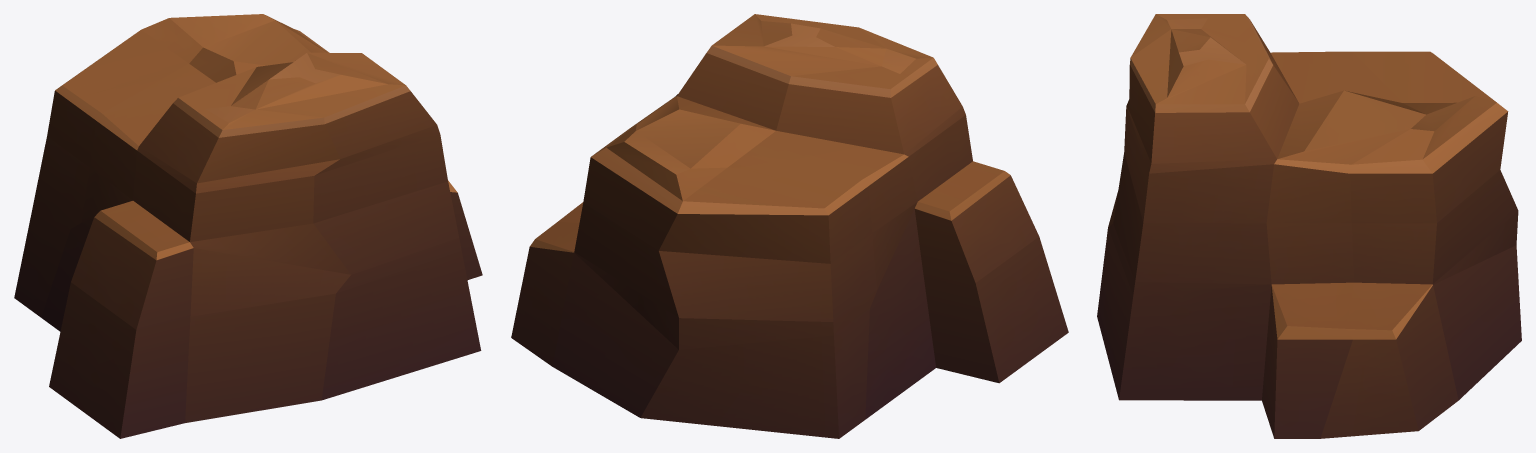
File: Rock01.fbx
3 renders of one model, left to right at view 1: azimuth 30°, elevation 25°; view 2: azimuth 150°, elevation 25°; view 3: azimuth 270°, elevation 25°, orthographic. The views are drawn at different scales.
Visible parts, largest first — view 1: Rock01; view 2: Rock01; view 3: Rock01.
Part boxes in pixels (x1,y1,x2,y2): Rock01: (14,14,482,438); Rock01: (511,14,1068,438); Rock01: (1097,14,1521,438).
Size of the model in its own units: 304 by 184 by 253.
